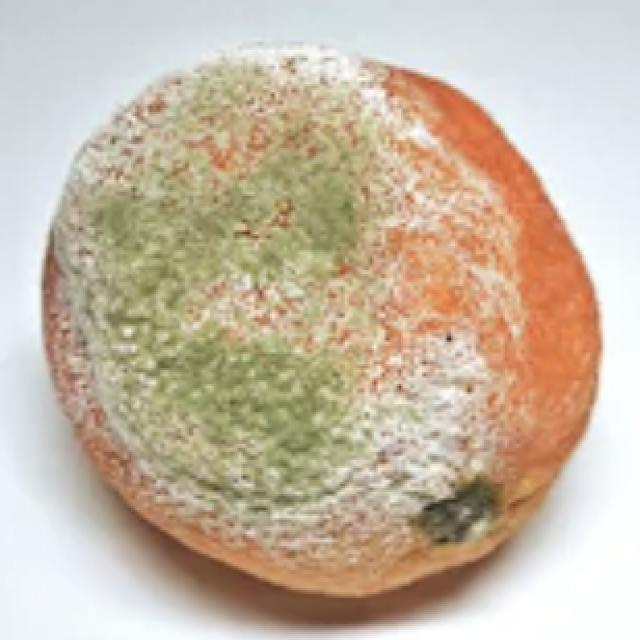rotten-orange: (39, 47, 603, 599)
